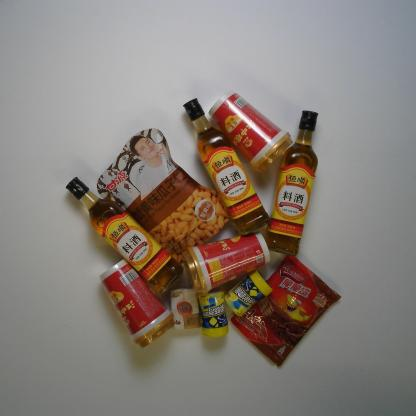Dessert: (230, 254, 342, 368)
Dried Fruit: (96, 127, 230, 266)
Gum: (224, 269, 273, 318), (197, 286, 230, 340)
Instant Drink: (207, 88, 294, 174), (99, 258, 176, 350), (181, 230, 271, 297)
Seasoner: (65, 176, 185, 294), (181, 97, 270, 237), (265, 108, 318, 258)
Tissue: (168, 286, 202, 332)
